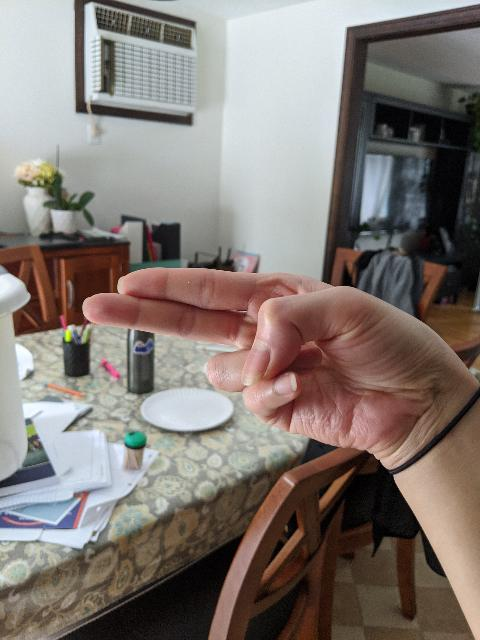H: (77, 262, 437, 458)
